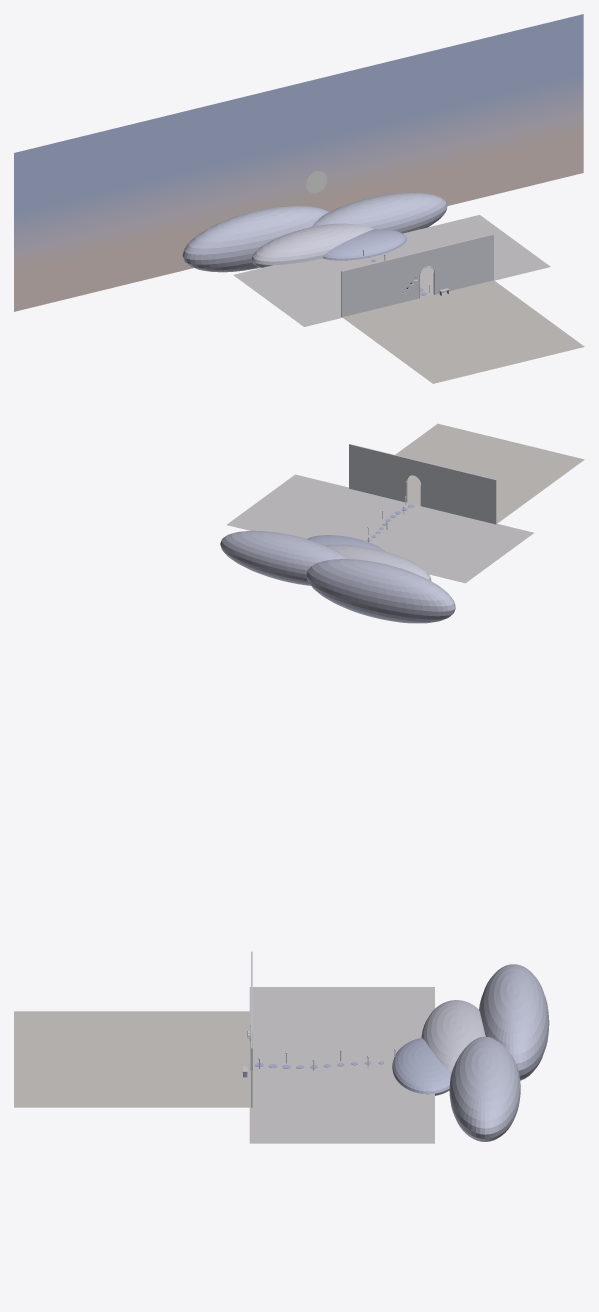
File: set.glb
The picture shows the model from 3 angles, top to bottom: view 1: azimuth 30°, elevation 25°; view 2: azimuth 150°, elevation 25°; view 3: azimuth 270°, elevation 25°; orthographic projection. The views are drawn at different scales.
Visible parts, largest first — view 1: Journey_Emit, Journey_LitBig; view 2: Journey_LitBig, Journey_Emit; view 3: Journey_LitBig, Journey_Emit.
Part boxes in pixels (x1,y1,x2,y2): Journey_Emit: [14, 14, 583, 311]; Journey_LitBig: [233, 215, 584, 383]; Journey_LitBig: [226, 423, 584, 583]; Journey_Emit: [220, 496, 455, 623]; Journey_LitBig: [14, 951, 434, 1143]; Journey_Emit: [258, 964, 549, 1141].
Size of the model in its own units: 60 by 16 by 40.
